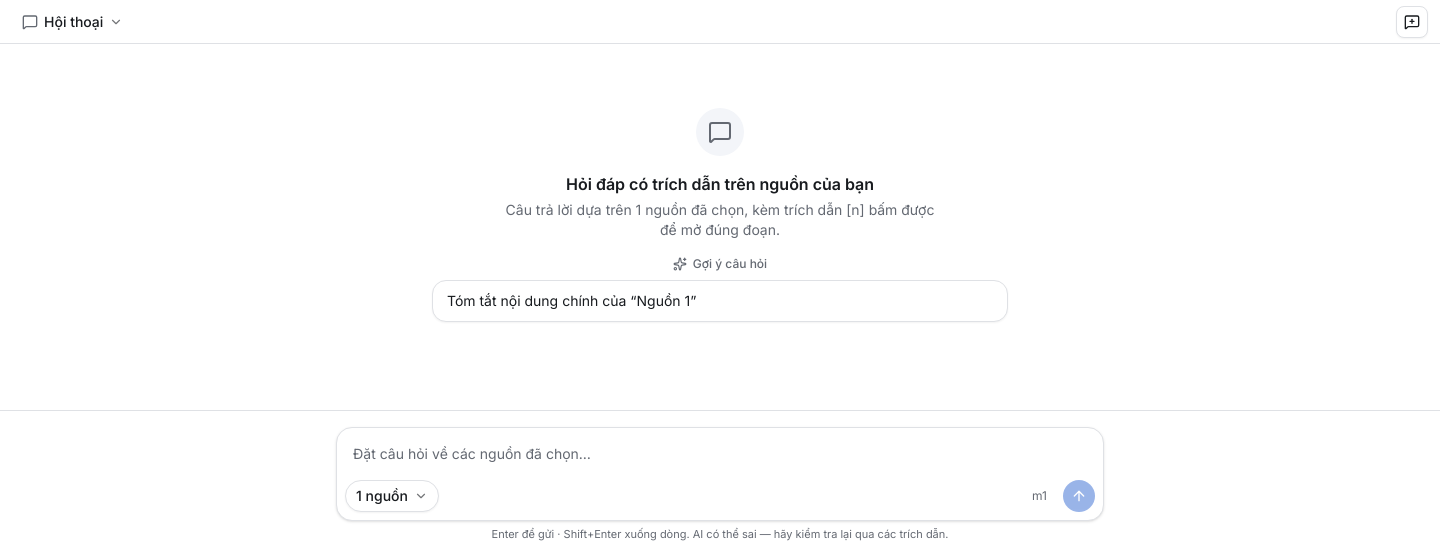
ChatPanel: dấu lỗi gửi câu hỏi + Thử lại › lỗi tiếp theo khi thử lại → dấu lỗi hiện lại; người dùng bấm Dừng (AbortError) → không có dấu lỗi
The image size is (1440, 558).
Check: the button with test id "scope-button" shows "1", box [345,480,439,512]
In the text box with test id "chat-input": point(720, 456) [345,436,1095,476], type "Câu A?"
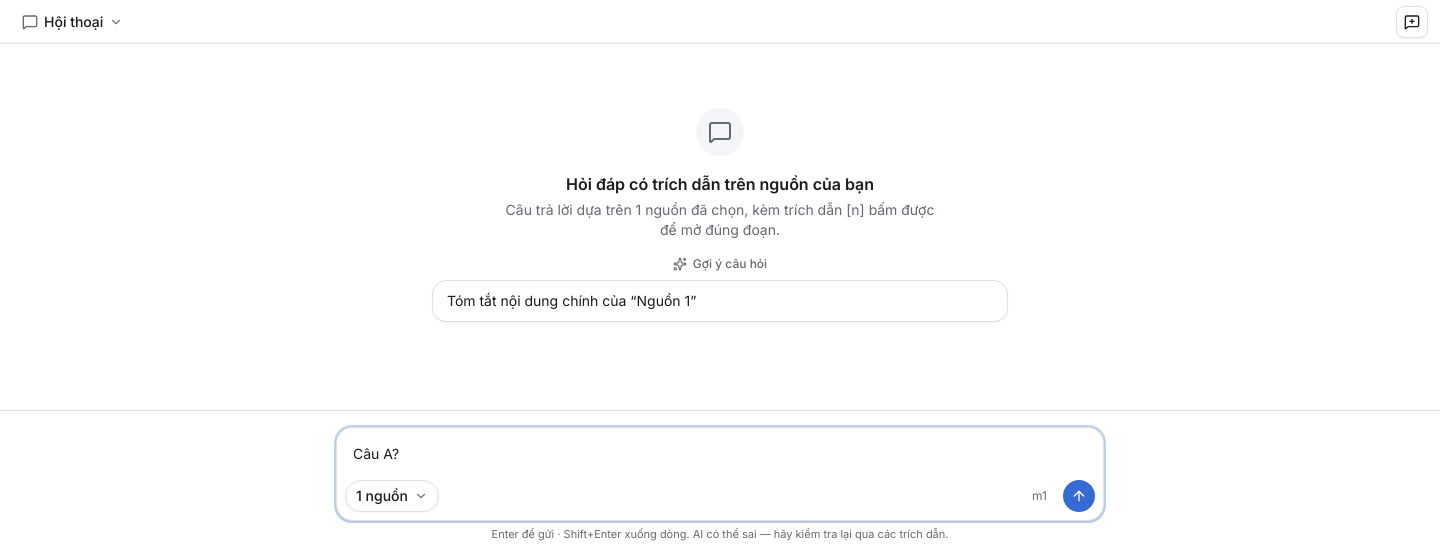
Click the button with test id "send-button": point(1079, 496) [1063,480,1095,512]
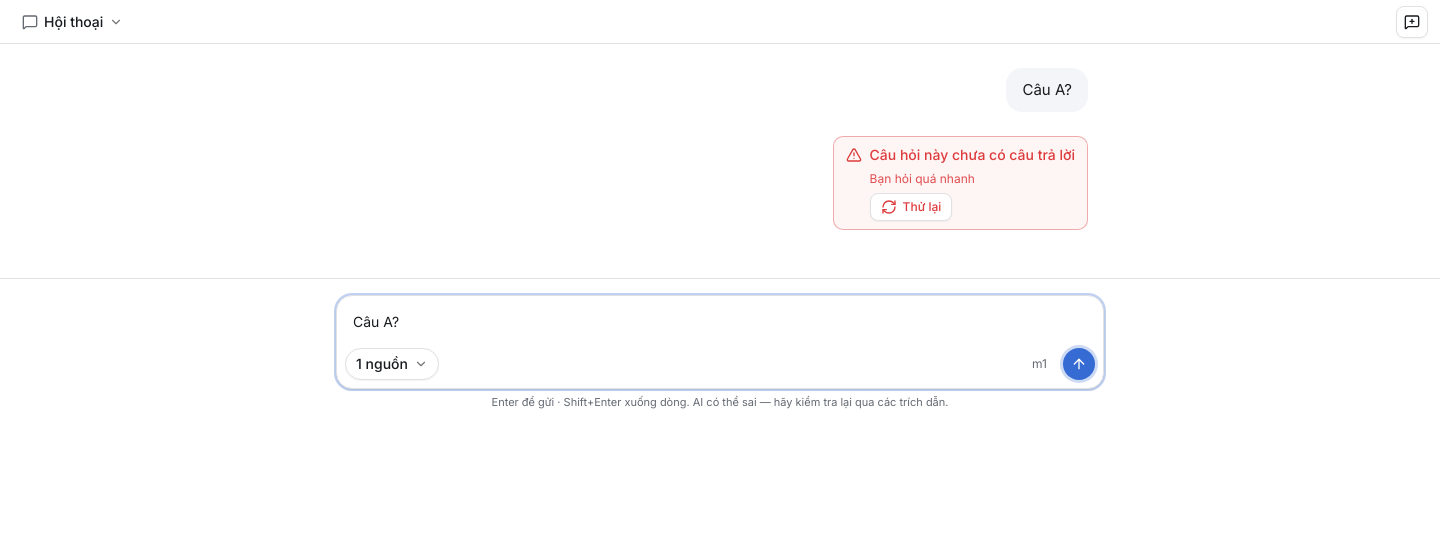
Check: the message "Câu hỏi này chưa có câu trả lời Bạn hỏi quá nhanh Thử lại" is shown, box [833,136,1088,230]
Click the button with test id "chat-retry": point(911, 207) [870,193,952,221]
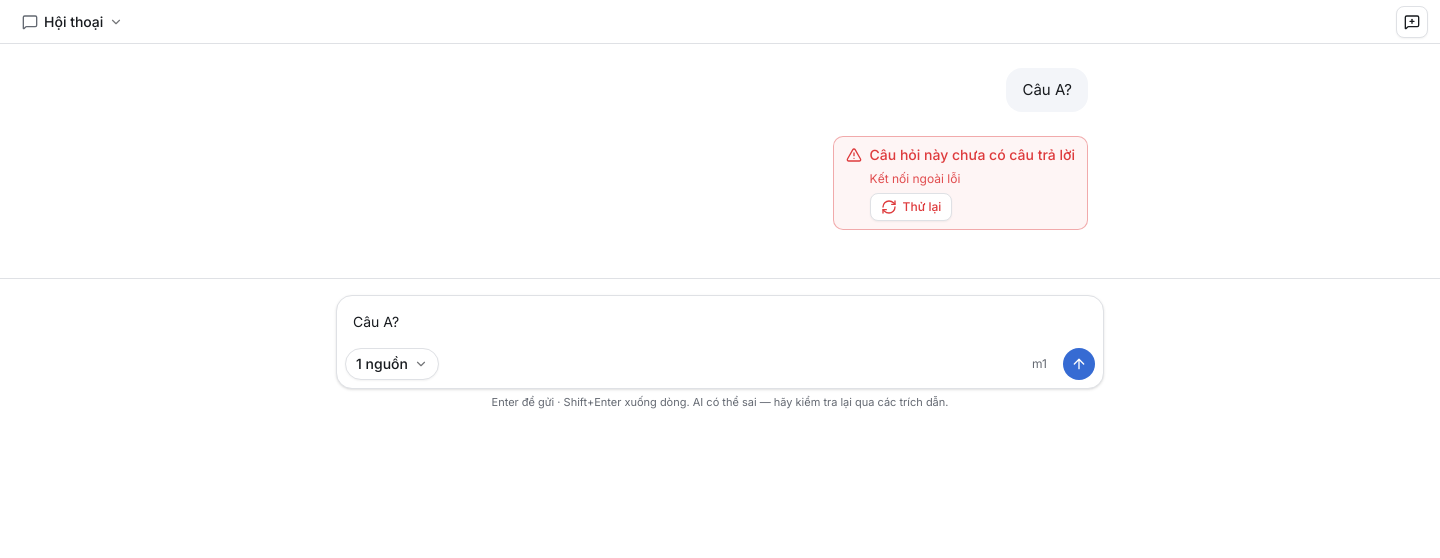
Check: the number of elements with test id "user-message" is 1, box [1006,68,1088,112]
Check: the message with test id "chat-send-error" shows "Kết nối ngoài lỗi", box [870,171,960,186]
Click the button with test id "chat-retry": point(911, 207) [870,193,952,221]
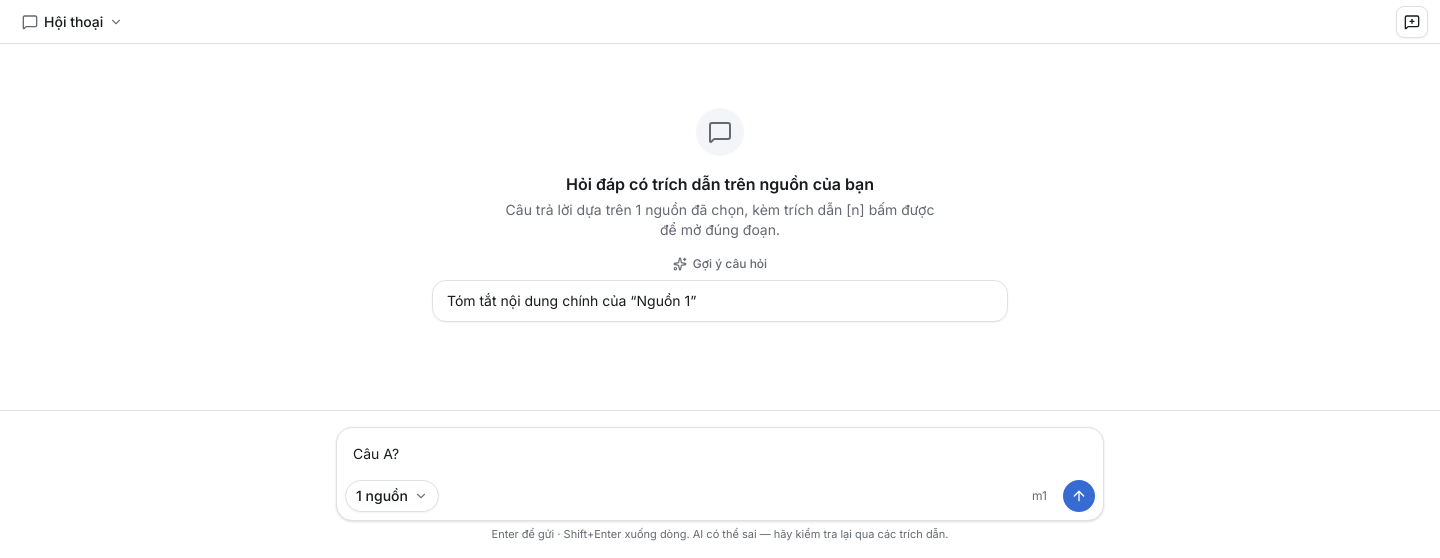
Check: the element with test id "user-message" is gone
Check: the message with test id "chat-send-error" is gone
